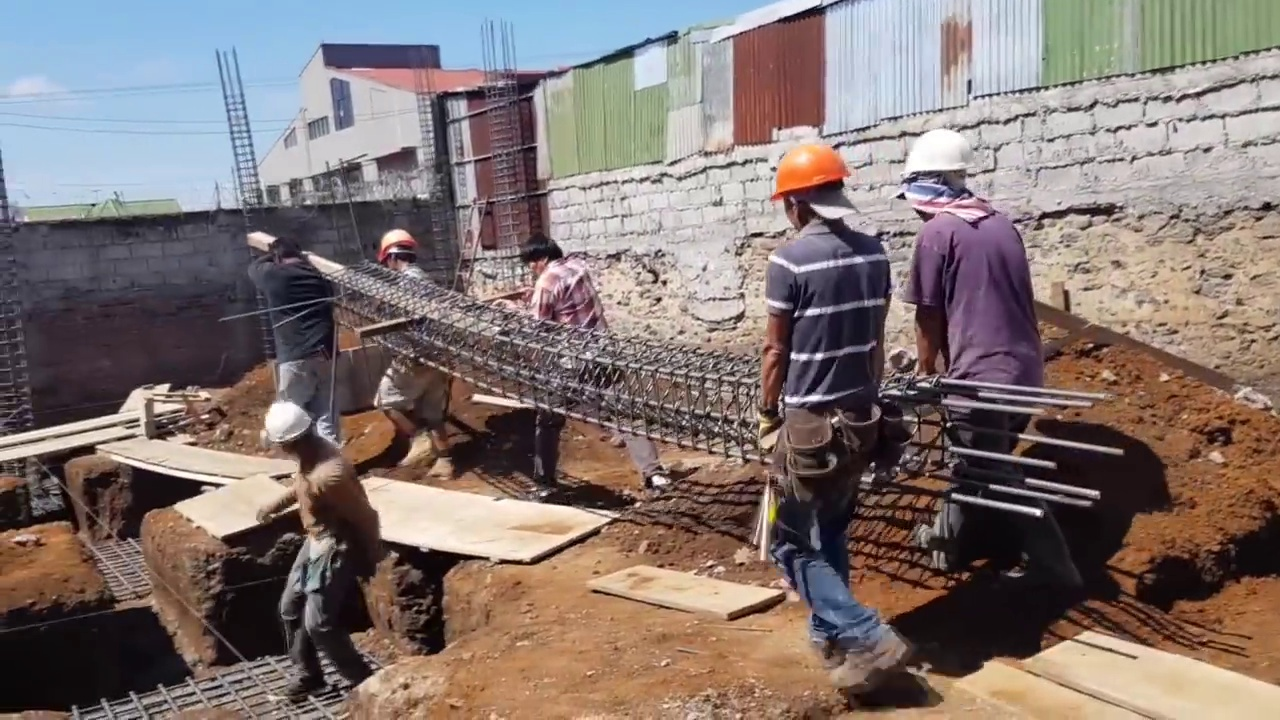helmet: (766, 142, 851, 202), (900, 127, 977, 181), (262, 399, 312, 443), (377, 228, 419, 254)
helmet-off: (518, 234, 563, 278), (269, 237, 304, 266)
helmet-on: (766, 140, 853, 240), (893, 126, 978, 222), (262, 396, 333, 466), (377, 226, 419, 273)
person: (892, 124, 1087, 597), (760, 129, 906, 692), (519, 231, 672, 494), (260, 389, 381, 699), (374, 227, 457, 484), (248, 236, 343, 453)
